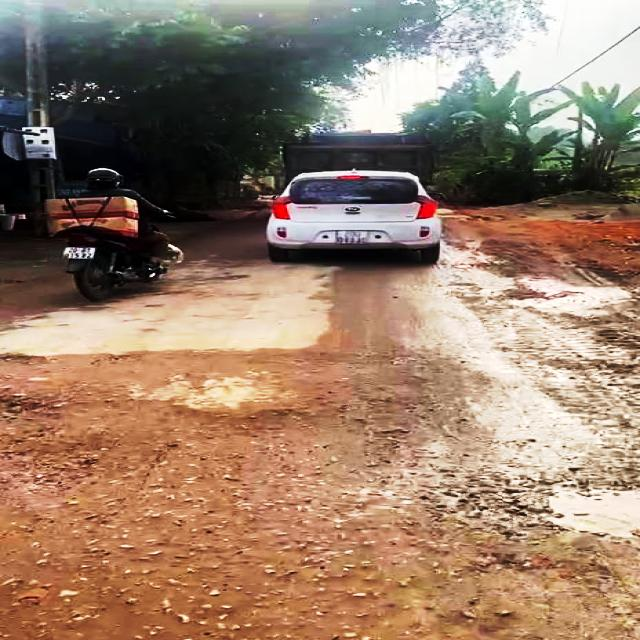pothole: (467, 456, 640, 541)
